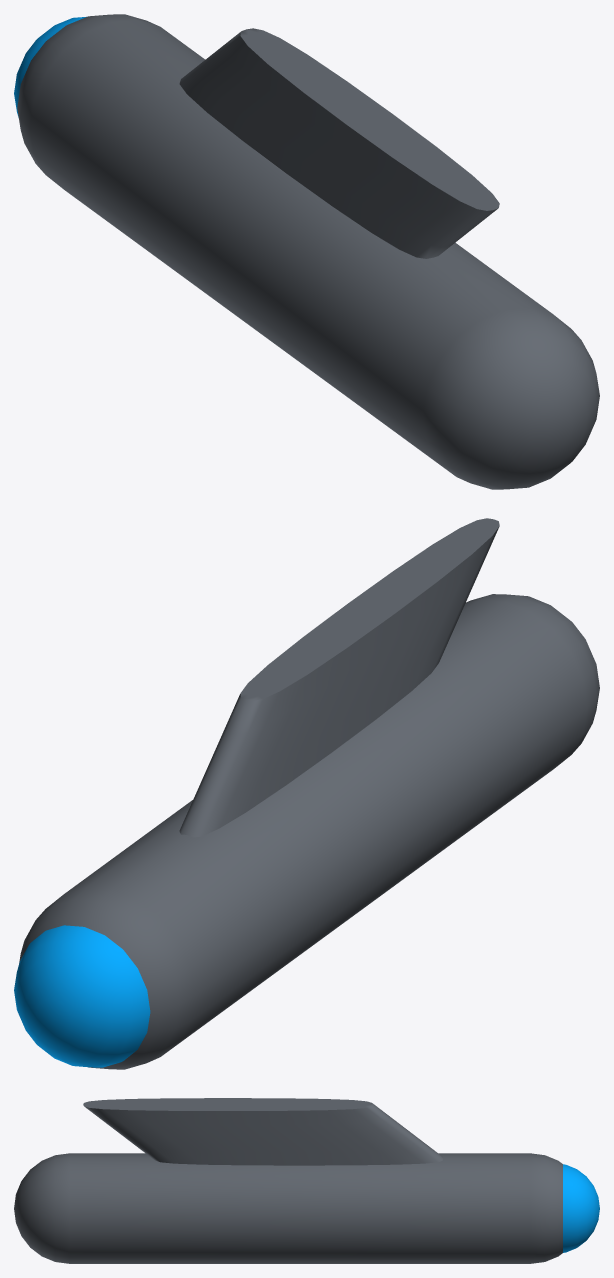
3 renders of one model, top to bottom at view 1: azimuth 30°, elevation 25°; view 2: azimuth 150°, elevation 25°; view 3: azimuth 270°, elevation 25°, orthographic. The views are drawn at different scales.
Visible parts, largest first — view 1: body, bridge; view 2: body, bridge; view 3: body, bridge.
Boxes of the visible parts, x1,y1,x2,y2 form: body: (14,14,599,489); bridge: (179,28,499,258); body: (14,594,599,1069); bridge: (179,518,499,837); body: (14,1153,599,1263); bridge: (83,1098,442,1165).
Size of the model in its own units: 0.75 by 1.15 by 3.94.
